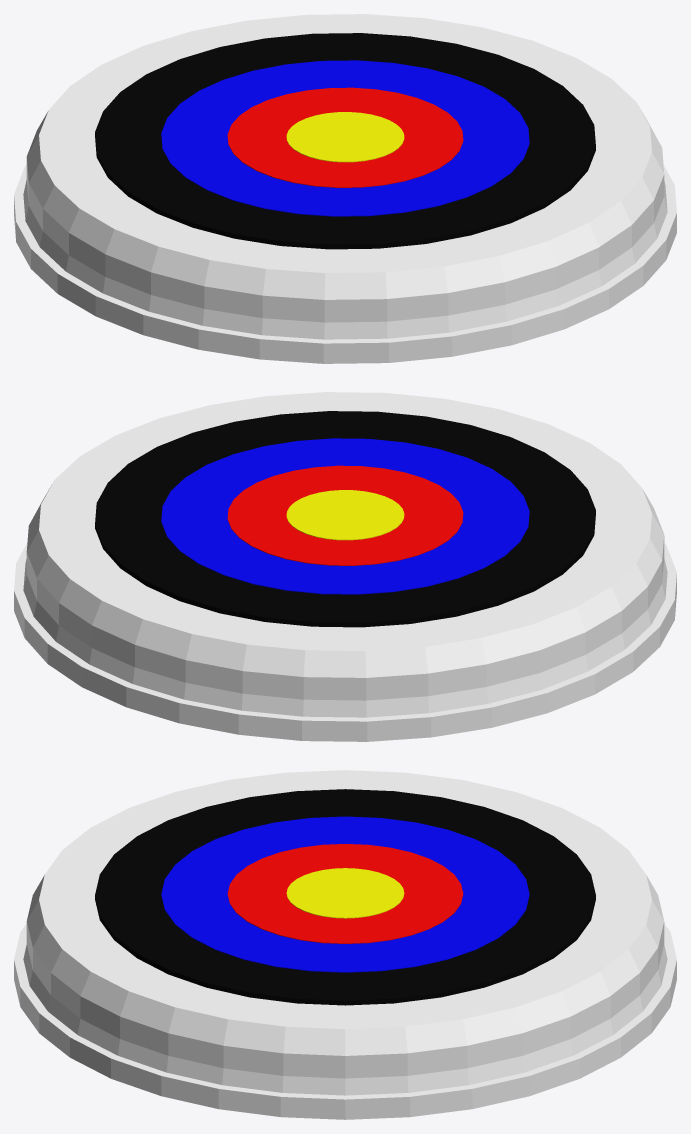
Rendered from bettertargettop.fbx.
The picture shows the model from 3 angles, top to bottom: view 1: azimuth 30°, elevation 25°; view 2: azimuth 150°, elevation 25°; view 3: azimuth 270°, elevation 25°; orthographic projection.
Visible parts, largest first — view 1: top blade, Cylinder, Cylinder.003, Cylinder.002, Cylinder.001; view 2: top blade, Cylinder, Cylinder.003, Cylinder.002, Cylinder.001; view 3: top blade, Cylinder, Cylinder.003, Cylinder.002, Cylinder.001.
Part boxes in pixels (x1,y1,x2,y2): top blade: (14, 14, 676, 363); Cylinder: (95, 33, 595, 249); Cylinder.003: (161, 60, 529, 216); Cylinder.002: (227, 87, 463, 187); Cylinder.001: (286, 112, 404, 162); top blade: (14, 392, 676, 741); Cylinder: (95, 411, 595, 627); Cylinder.003: (161, 438, 529, 594); Cylinder.002: (227, 465, 463, 565); Cylinder.001: (286, 490, 404, 540); top blade: (14, 770, 676, 1119); Cylinder: (95, 789, 595, 1005); Cylinder.003: (161, 816, 529, 972); Cylinder.002: (227, 844, 463, 943); Cylinder.001: (286, 868, 404, 918).
Bounding box in the file's own units: 900 × 130 × 900.
